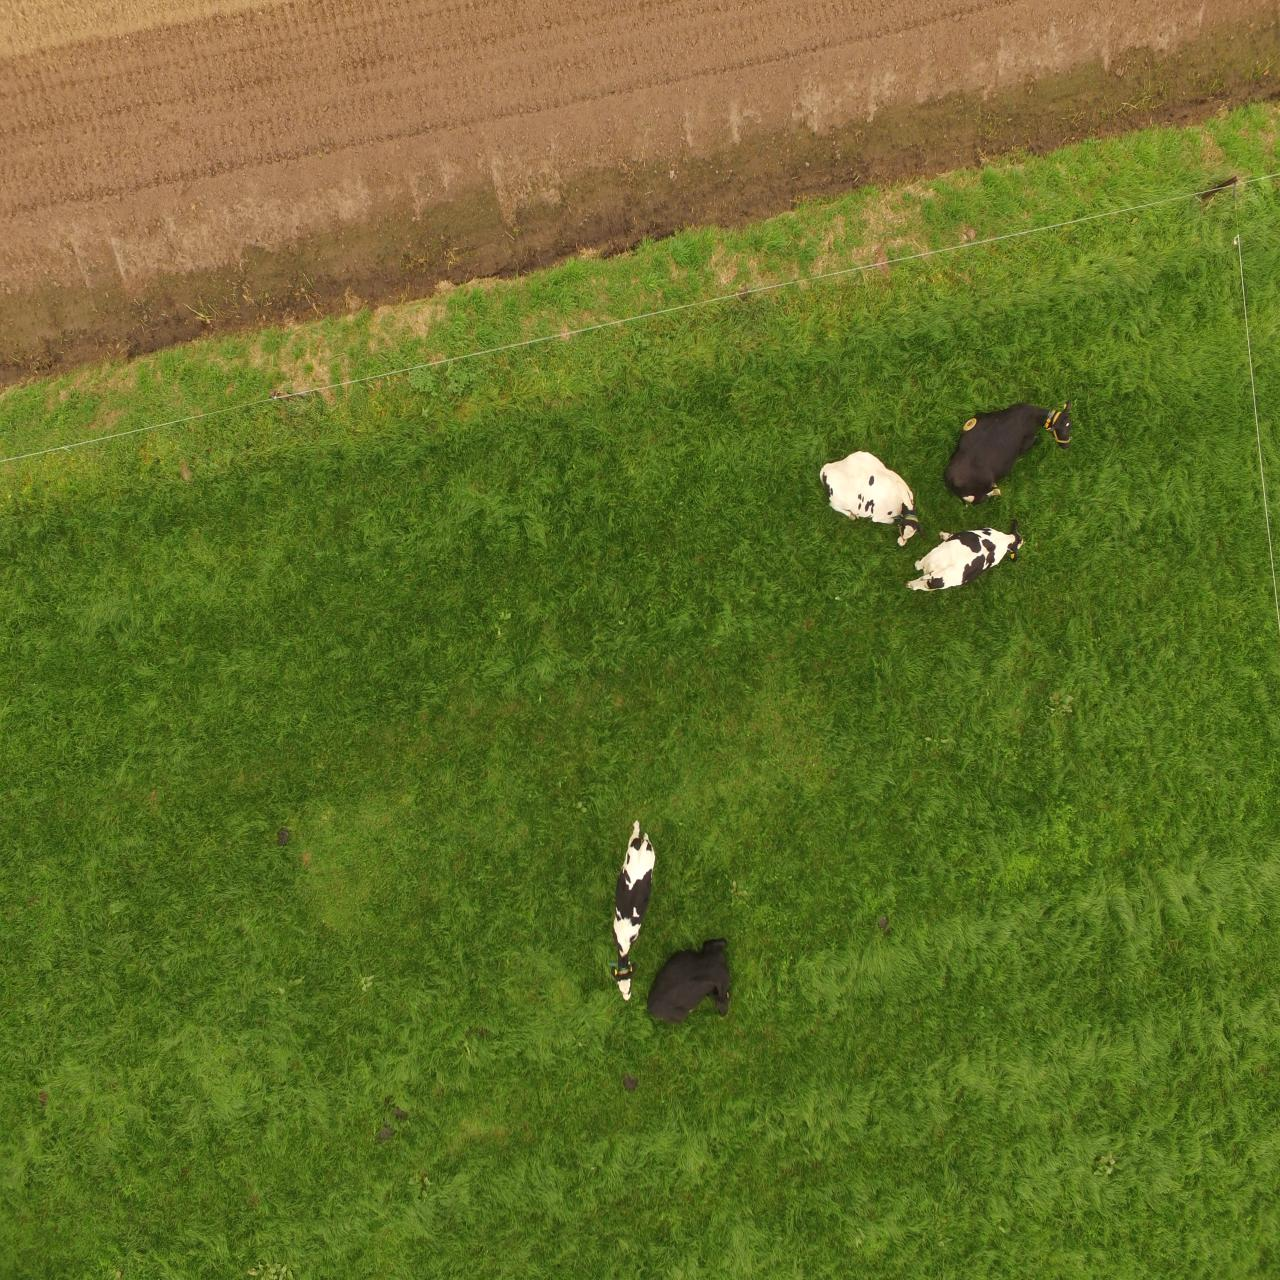cow: (938, 393, 1081, 518), (901, 516, 1028, 604), (818, 452, 927, 546), (608, 815, 655, 1015), (647, 935, 731, 1036)
